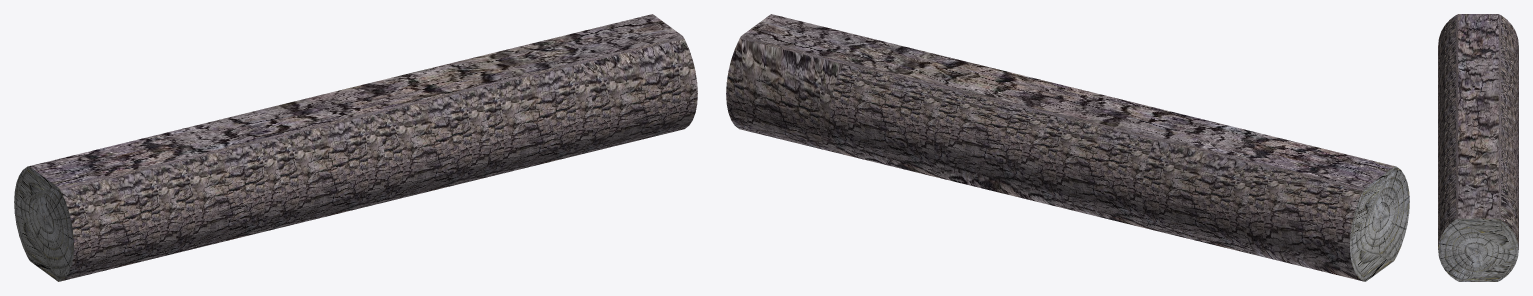
The model's file is log.fbx.
The picture shows the model from 3 angles, left to right: view 1: azimuth 30°, elevation 25°; view 2: azimuth 150°, elevation 25°; view 3: azimuth 270°, elevation 25°; orthographic projection. The views are drawn at different scales.
Visible parts, largest first — view 1: Cylinder; view 2: Cylinder; view 3: Cylinder.
Part boxes in pixels (bbox=[...]): Cylinder: bbox=[14, 14, 697, 281]; Cylinder: bbox=[726, 14, 1409, 281]; Cylinder: bbox=[1438, 14, 1518, 281].
Bounding box in the file's own units: 600 × 86.73 × 100.
